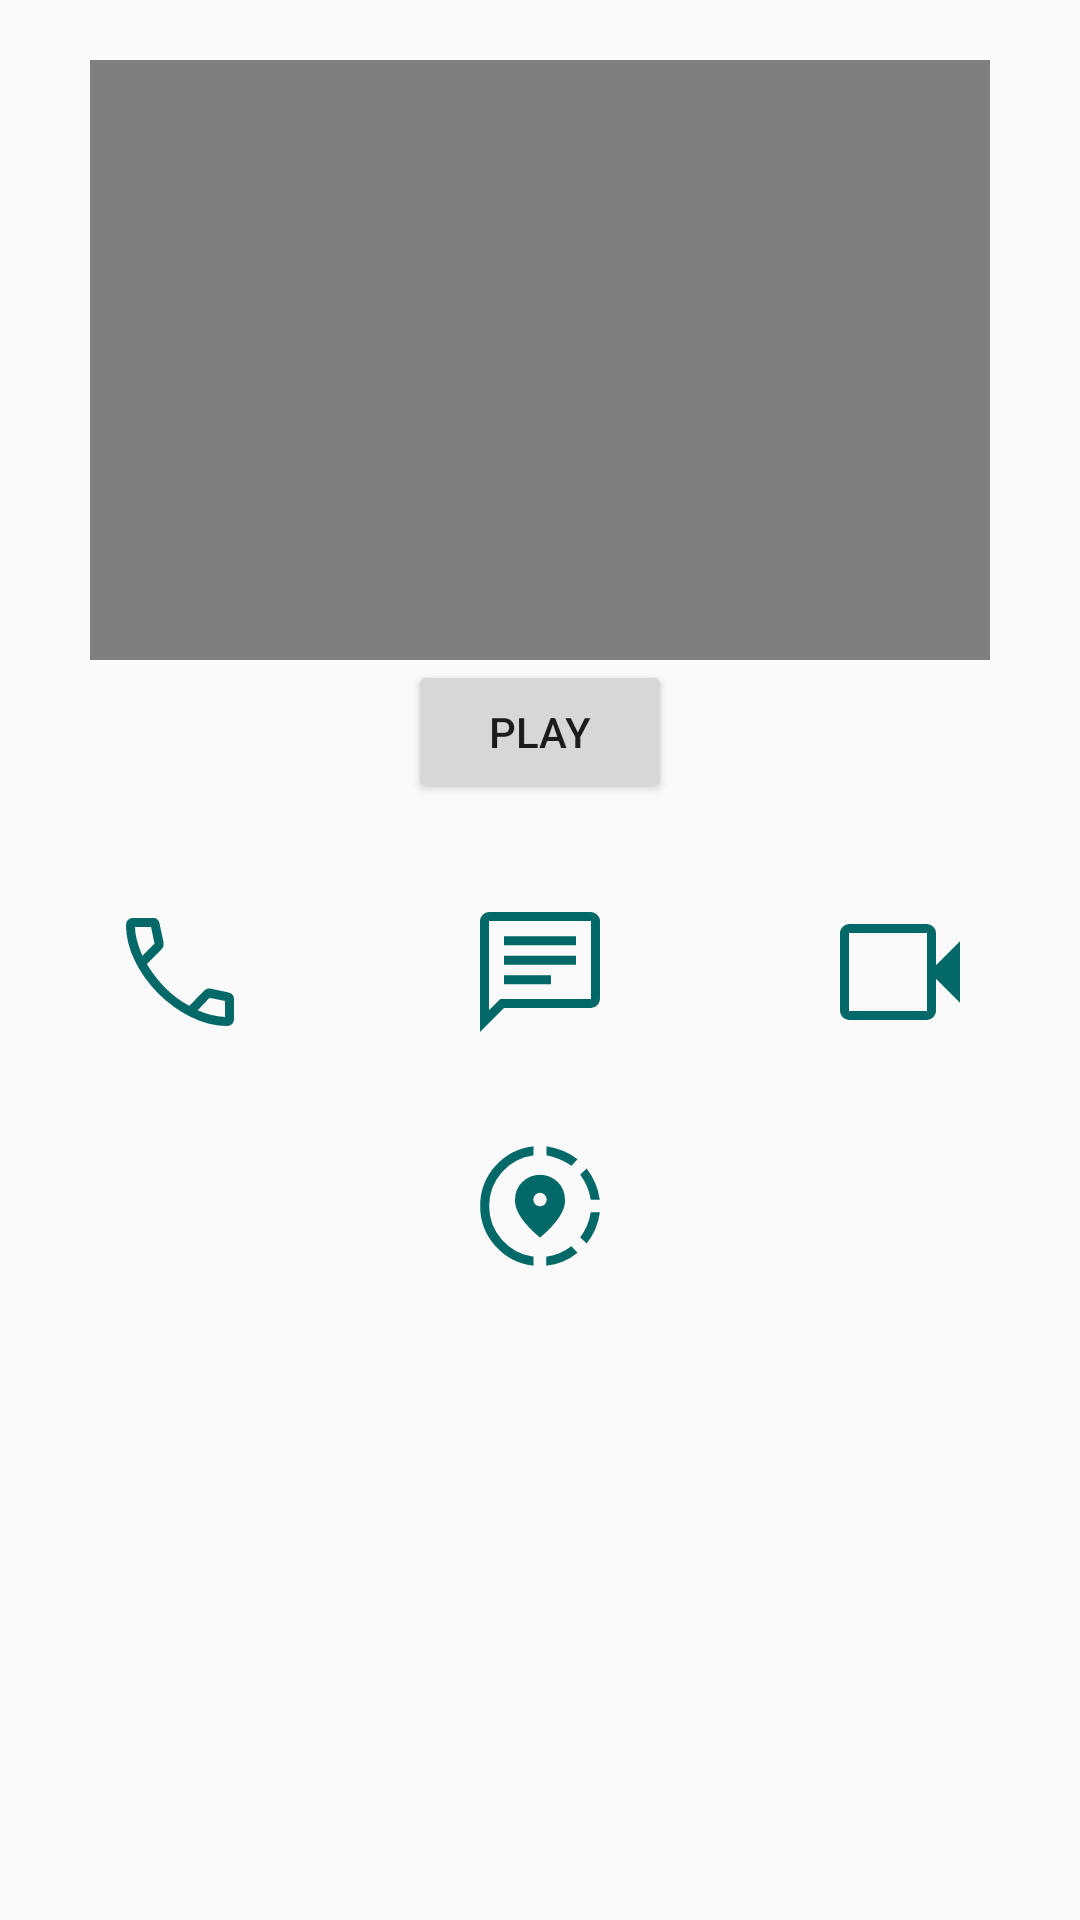

Locate icon controls on the screen. Image size 1080 × 1920, boxes as (x1, y1, x2, y2).
call: (126, 918, 234, 1026)
chat: (480, 912, 600, 1032)
share location: (480, 1146, 600, 1266)
videocam: (840, 924, 960, 1020)
